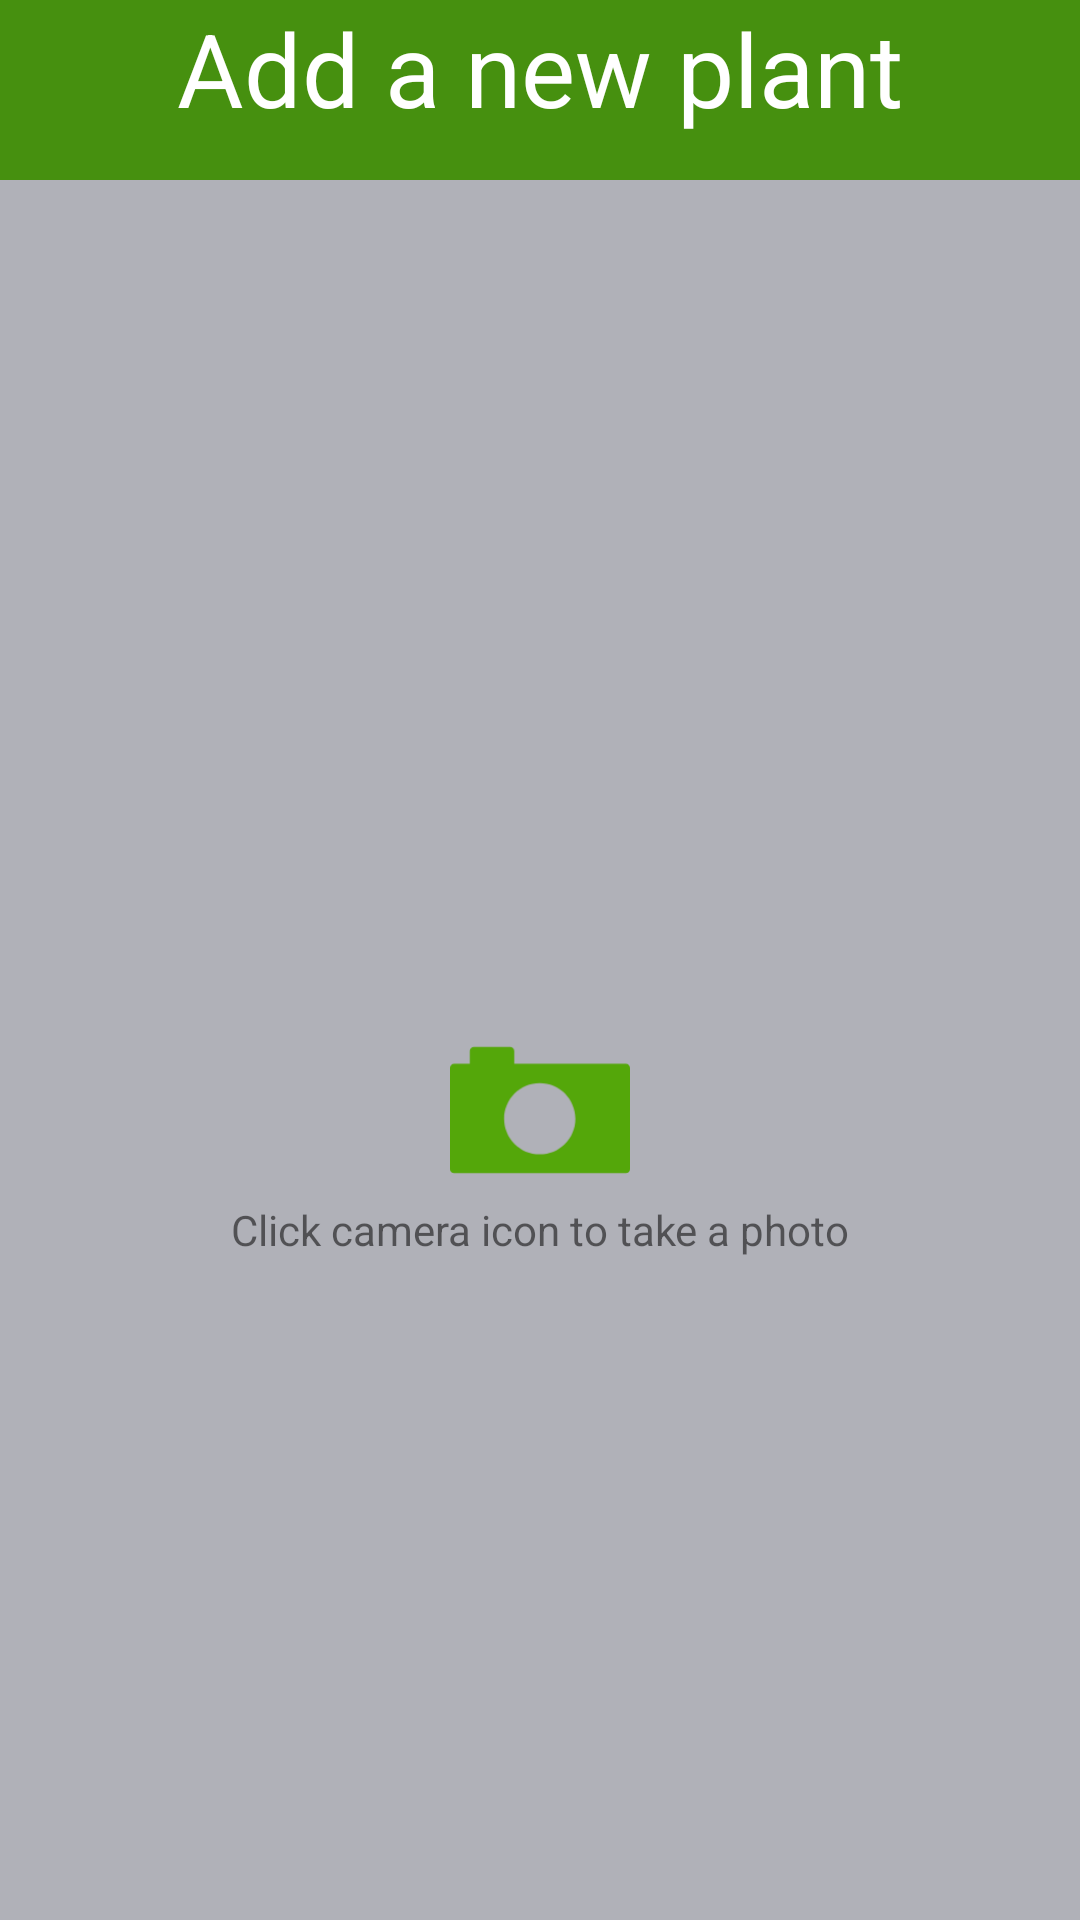

Locate icon controls on the screen. Image size 1080×1920, boxes as (x1, y1, x2, y2).
camera with lens: (450, 1046, 630, 1174)
